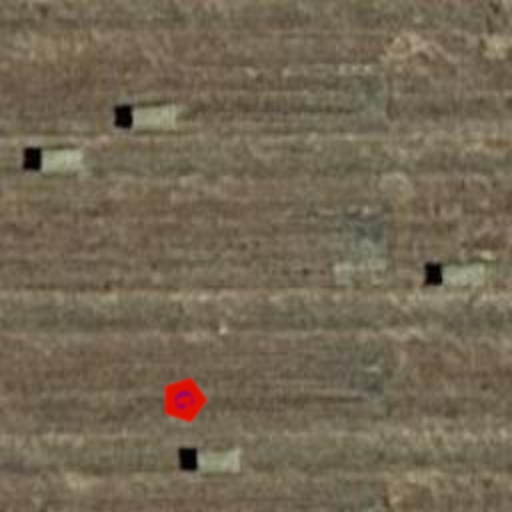pentagon: (154, 370, 214, 430)
